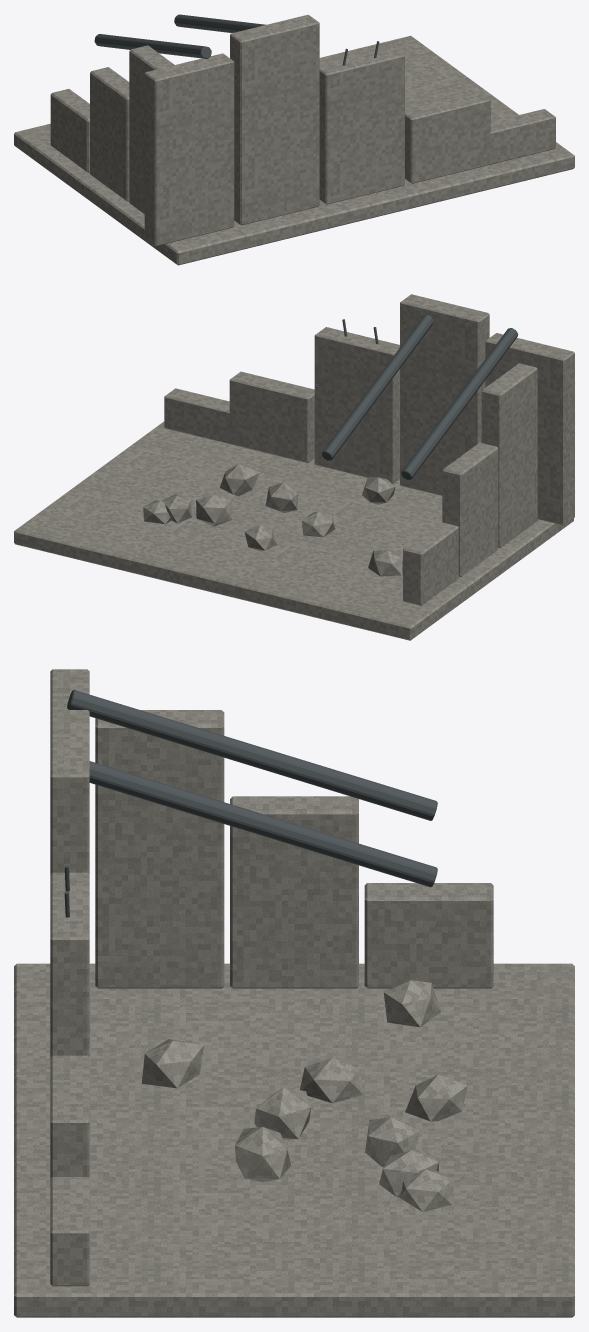
3 views of the same model, one above another, from view 1: azimuth 30°, elevation 25°; view 2: azimuth 150°, elevation 25°; view 3: azimuth 270°, elevation 25° (orthographic). The views are drawn at different scales.
Visible parts, largest first — view 1: ST2-B04_Mesh; view 2: ST2-B04_Mesh; view 3: ST2-B04_Mesh.
Boxes of the visible parts, x1,y1,x2,y2 form: ST2-B04_Mesh: (14, 14, 574, 265); ST2-B04_Mesh: (14, 294, 574, 640); ST2-B04_Mesh: (14, 669, 574, 1317).
Bounding box in the file's own units: 7.2 × 3.34 × 5.
